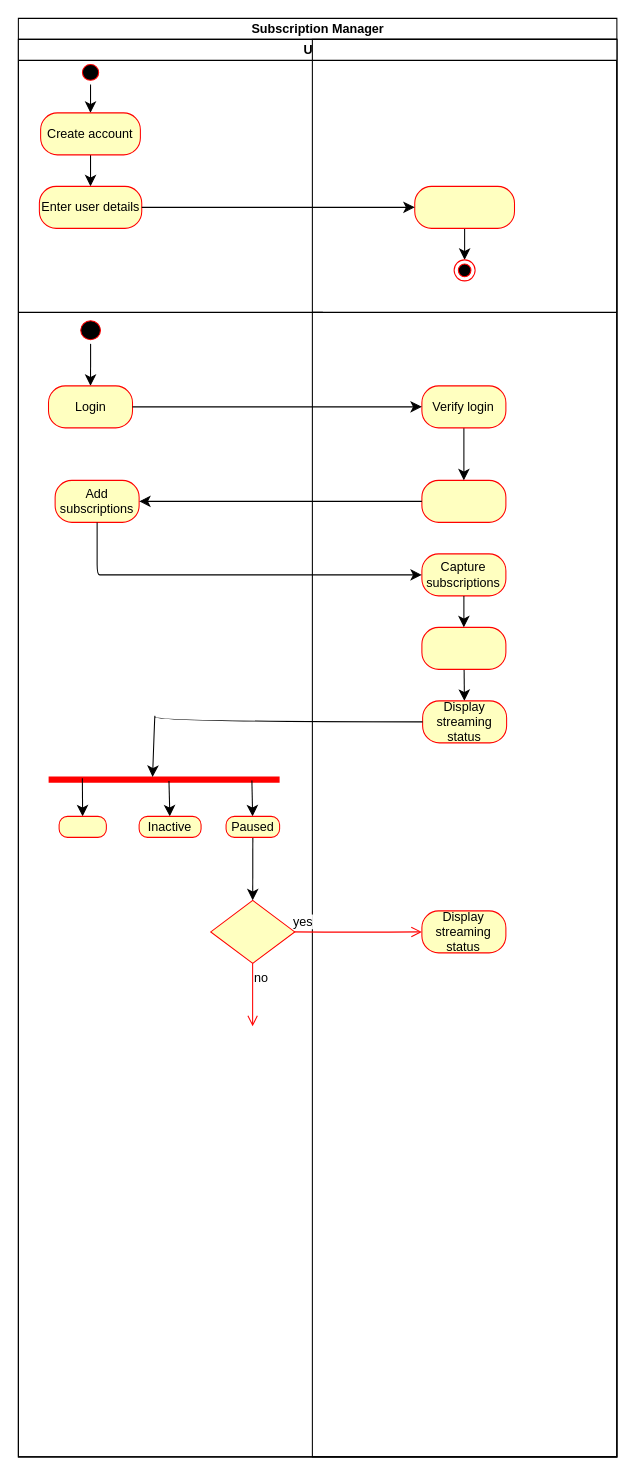
Some shapes in this 635 by 1475 pixel diagram are drawn without their labels. The shapes that lost their labels are listed below. From the top down, each one's box as (x1, y1, x2, y2) in pixels, then its label:
(414, 185, 514, 228): Capture User details
(421, 479, 506, 522): Save login
(421, 626, 506, 669): Validate Subscriptions
(311, 38, 617, 1457): System
(58, 815, 106, 837): Active
(210, 899, 295, 963): Make payment?
